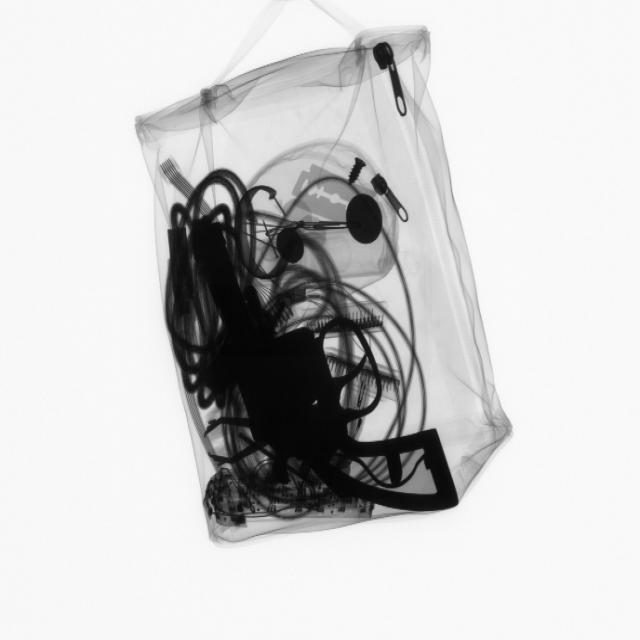BLADE: (293, 159, 367, 236)
GUN: (207, 286, 456, 512)
